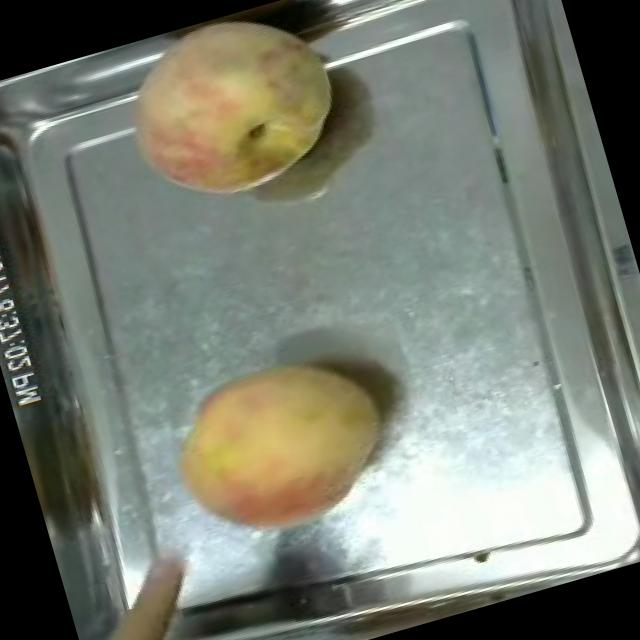Fruit: (144, 328, 416, 564), (96, 0, 364, 228)
